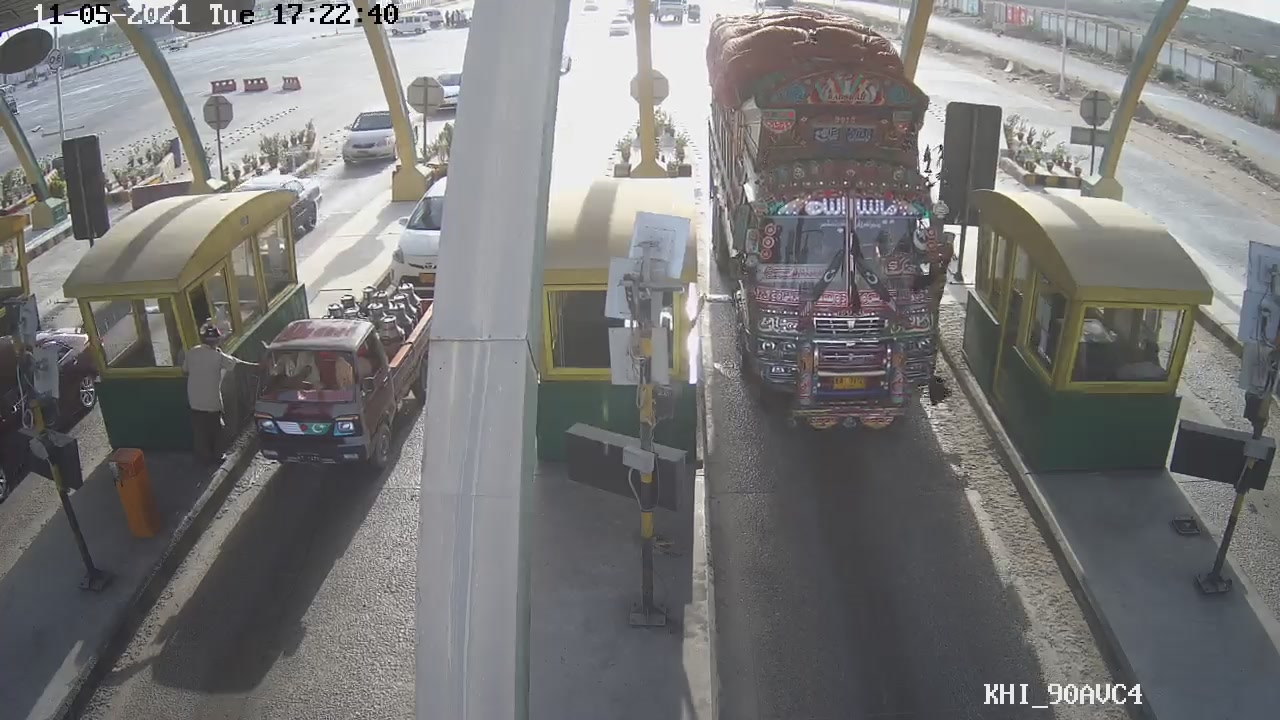F5: (693, 1, 978, 445)
